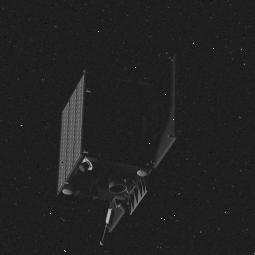proba_2: (52, 65, 187, 242)
